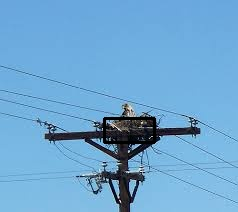bird-nest: (104, 120, 157, 144)
